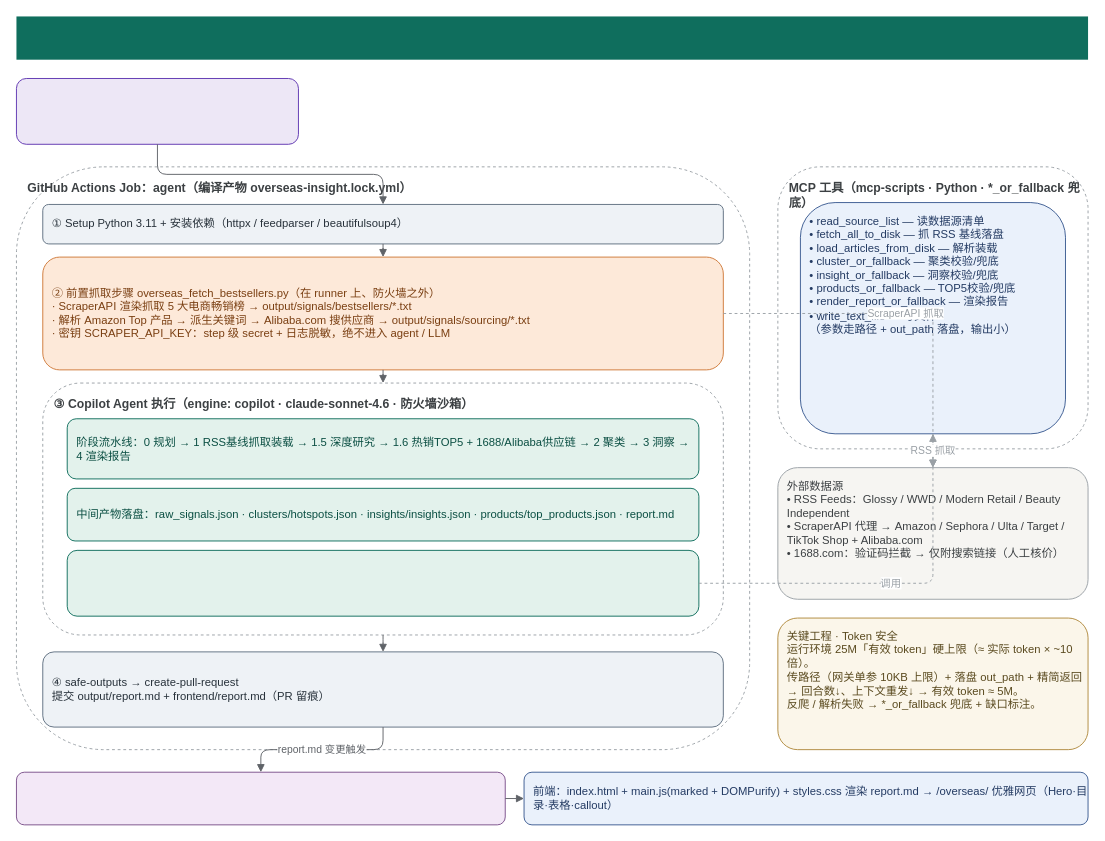
Image size: 1105x841. Some labels were removed from this diagram. Here are the shapes that lost their labels. From the top down, the centre of each, then its label:
point 552,37: Lab-04 — 技术逻辑图（GitHub Actions + gh-aw 智能工作流 + Copilot Agent）
point 157,111: 触发 • schedule cron 0 21 * * * (UTC) = 北京 05:00 • workflow_dispatch（手动）
point 382,582: 全程经 MCP 工具调用（见右）。关键工程：工具一律传【文件路径】而非内联 JSON，结果写入 out_path，仅返回精简状态。
point 260,798: 发布：deploy-pages.yml（push frontend/** 触发）→ 组装 _site → GitHub Pages
